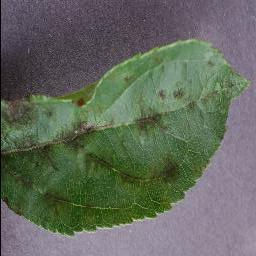apple healthy: (0, 37, 251, 237)
